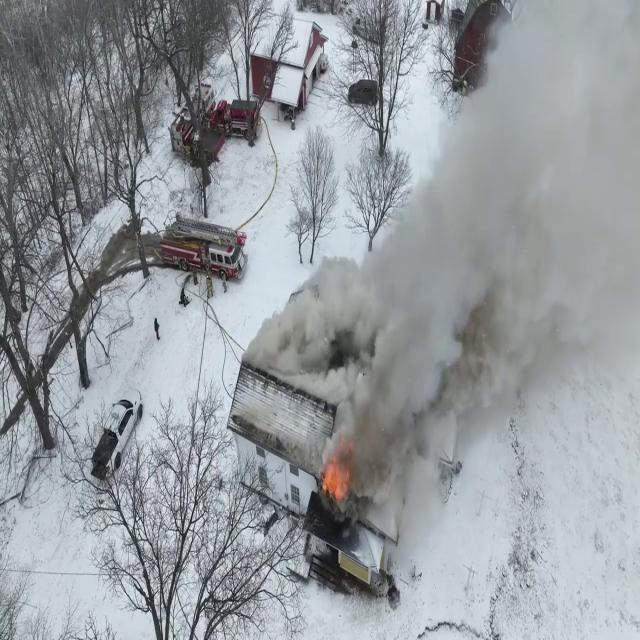Fire: (320, 436, 354, 511)
Smoke: (335, 2, 640, 496), (245, 242, 381, 378)
